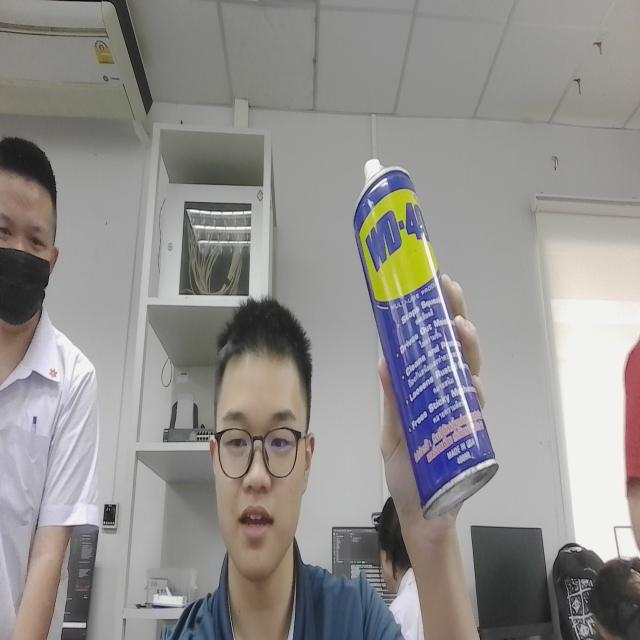wd-40: (344, 130, 508, 536)
